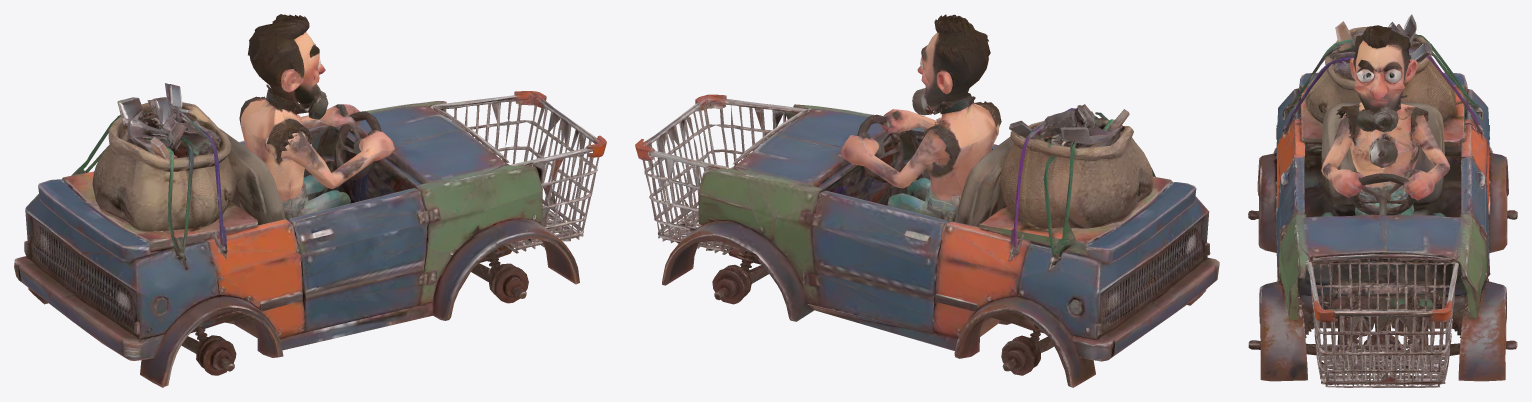
File: clyde.glb
The picture shows the model from 3 angles, left to right: view 1: azimuth 30°, elevation 25°; view 2: azimuth 150°, elevation 25°; view 3: azimuth 270°, elevation 25°; orthographic projection. The views are drawn at different scales.
Parts seen in each view (by area): view 1: Mesh_0; view 2: Mesh_0; view 3: Mesh_0.
Part boxes in pixels (box(x1,y1,x2,y2)): Mesh_0: box(14, 14, 606, 387); Mesh_0: box(635, 14, 1219, 387); Mesh_0: box(1248, 14, 1517, 387).
Size of the model in its own units: 1.89 by 1.06 by 0.9522.
1 material, 1 textured.
